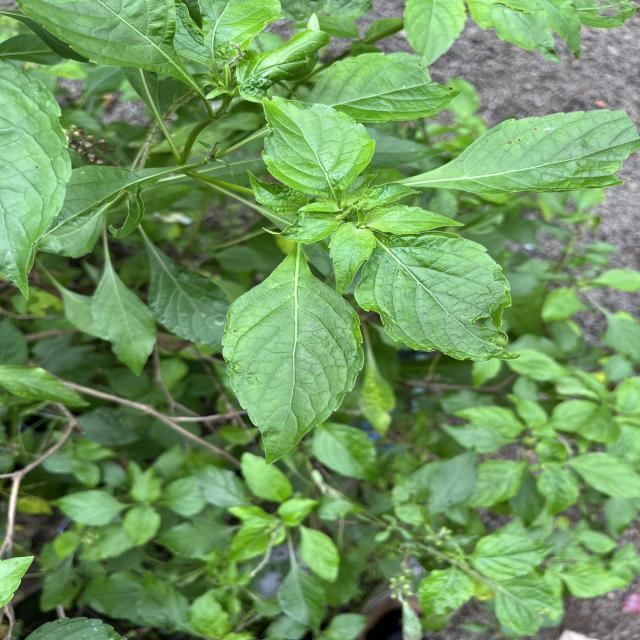Ocimum gratissimum: (218, 245, 370, 468), (352, 228, 526, 364), (402, 106, 640, 200), (13, 0, 205, 109), (0, 54, 74, 306), (258, 88, 378, 202)
